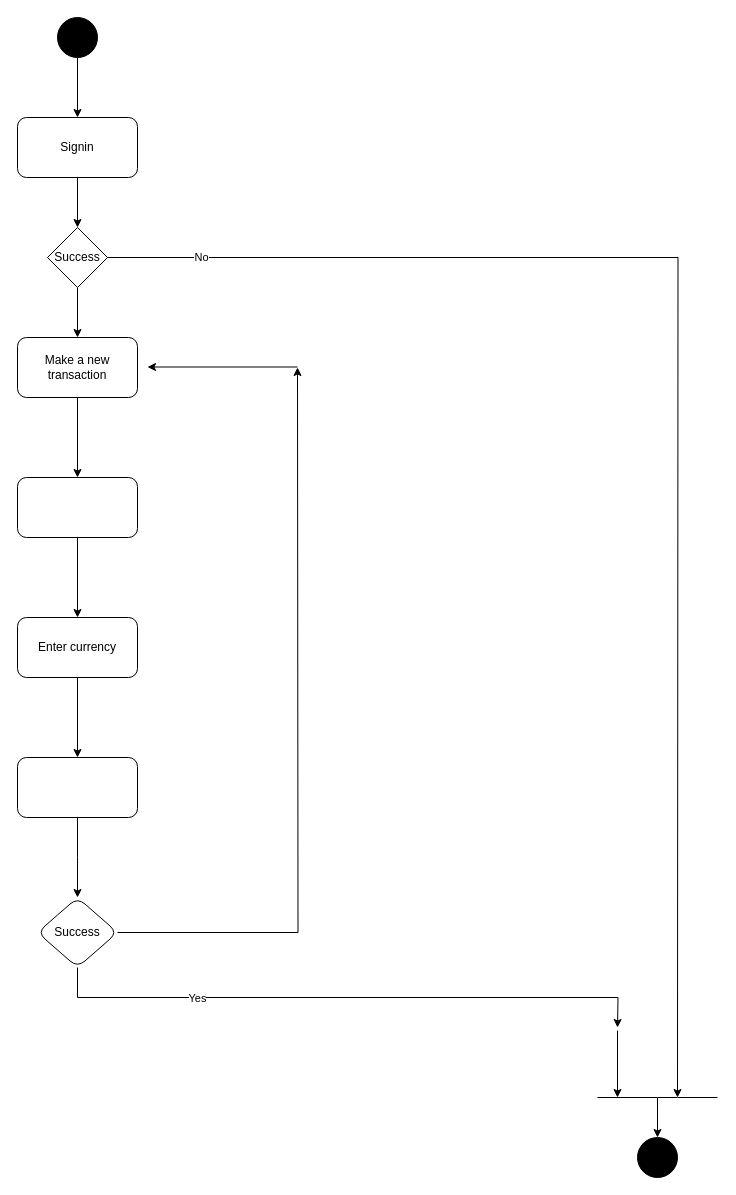
This 736x1195 diagram has some shape labels left out. The box of each missing label's shape, as (x1, y1, x2, y2) in pixels:
Enter amount: (16, 756, 138, 818)
Enter receiver's account: (16, 476, 138, 538)
